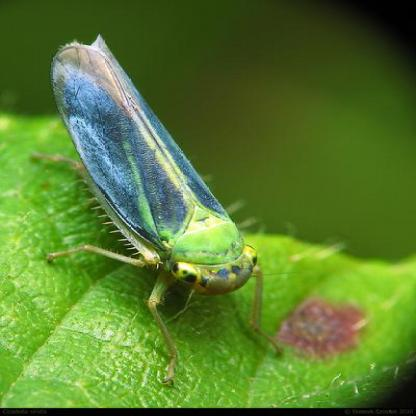Green-Leafhopper: (23, 37, 292, 381)
